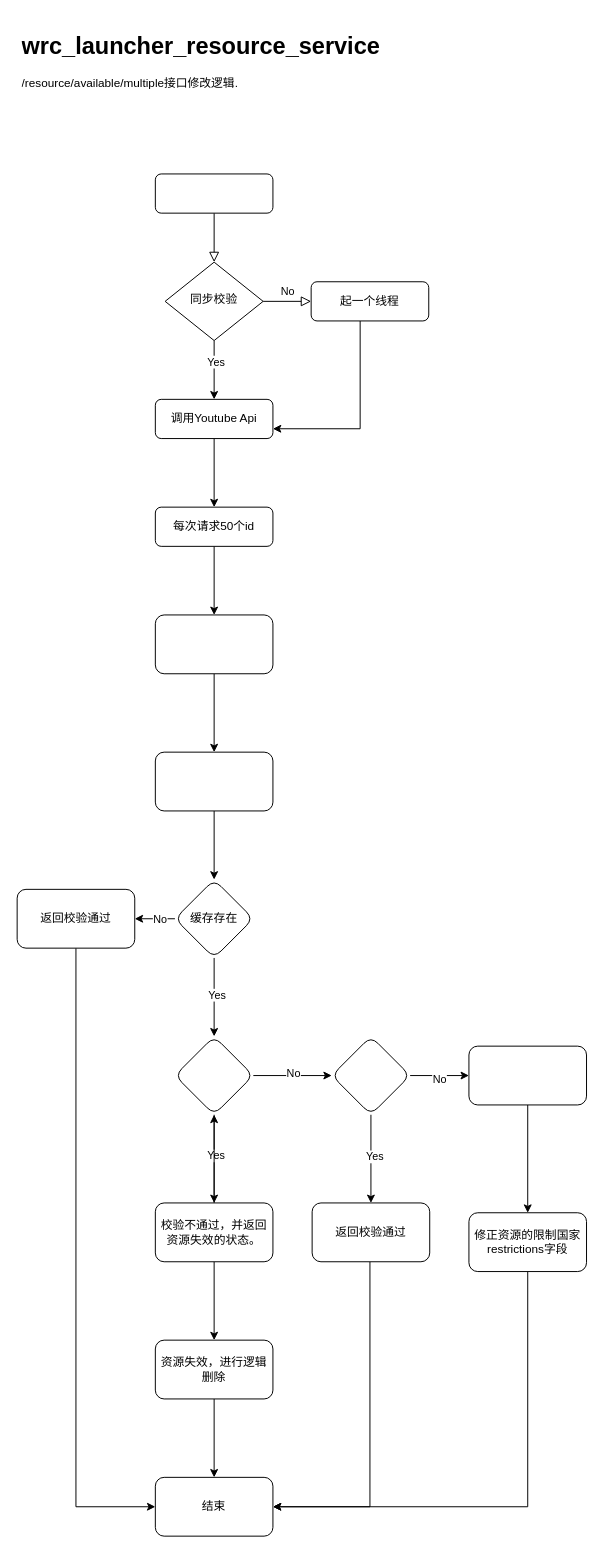
Image size: 604x1553. Some labels were removed from this diagram. Here are the shapes that lost their labels. From the top down, the centre of each, then its label:
point 213,193: 开始
point 213,644: 返回的结果写入本地cache
point 213,781: 根据id获取cache缓存
point 213,1075: 缓存里的限制国家为空
point 370,1075: 限制国家包含请求的国家
point 527,1075: 校验不通过，并返回资源限制国家不正确的状态。
